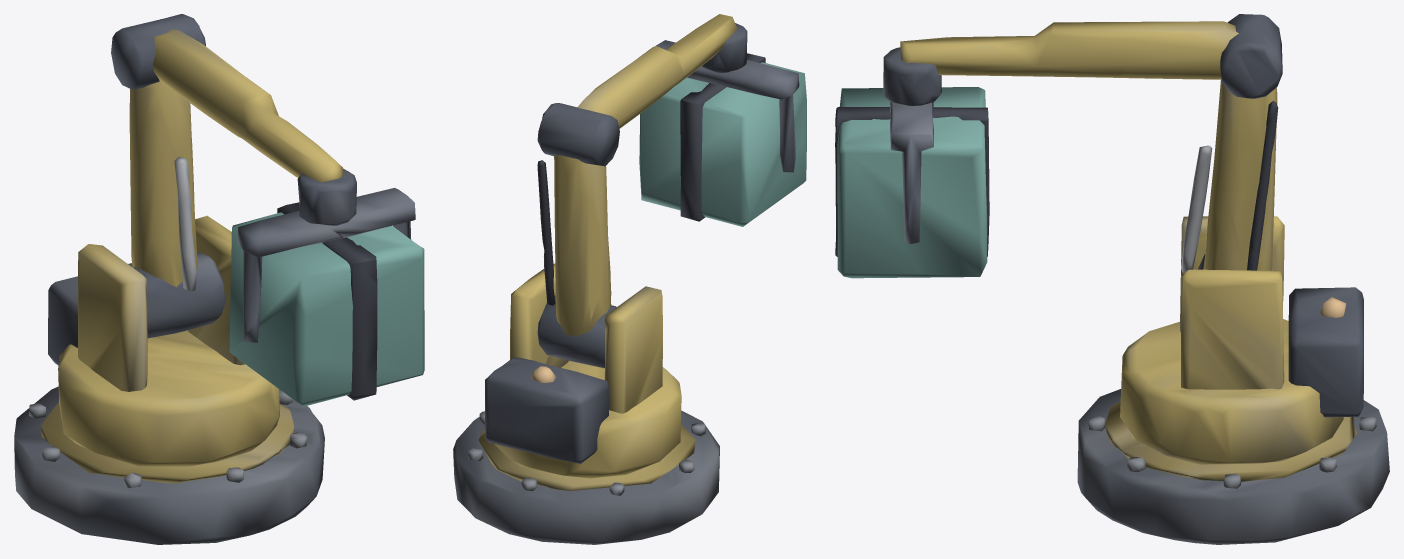
File: bay_arm.glb
3 views of the same model, side by side, from view 1: azimuth 30°, elevation 25°; view 2: azimuth 150°, elevation 25°; view 3: azimuth 270°, elevation 25° (orthographic). The views are drawn at different scales.
Parts seen in each view (by area): view 1: arm_turret, arm_base, arm_crate, arm_lower, arm_upper, arm_head; view 2: arm_turret, arm_base, arm_crate, arm_lower, arm_upper, arm_head; view 3: arm_turret, arm_base, arm_crate, arm_upper, arm_lower, arm_head.
Part boxes in pixels (x1,y1,x2,y2): arm_turret: (48,215,279,466); arm_base: (14,386,324,544); arm_crate: (229,202,424,406); arm_lower: (129,81,225,338); arm_upper: (111,14,343,182); arm_head: (238,168,415,342); arm_turret: (485,263,681,478); arm_base: (453,410,719,544); arm_crate: (639,53,806,226); arm_lower: (537,155,616,368); arm_upper: (537,14,737,166); arm_head: (656,23,799,172); arm_turret: (1120,216,1363,464); arm_base: (1077,389,1389,544); arm_crate: (835,87,989,278); arm_upper: (900,14,1282,98); arm_lower: (1181,79,1278,273); arm_head: (883,47,941,243).
Bounding box in the file's own units: 0.8365 × 1.34 × 1.47.
